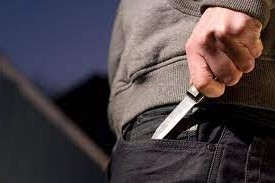knife: (150, 62, 216, 142)
